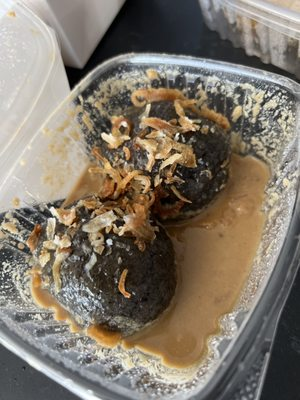sushi: (2, 47, 300, 355), (0, 0, 69, 192)
